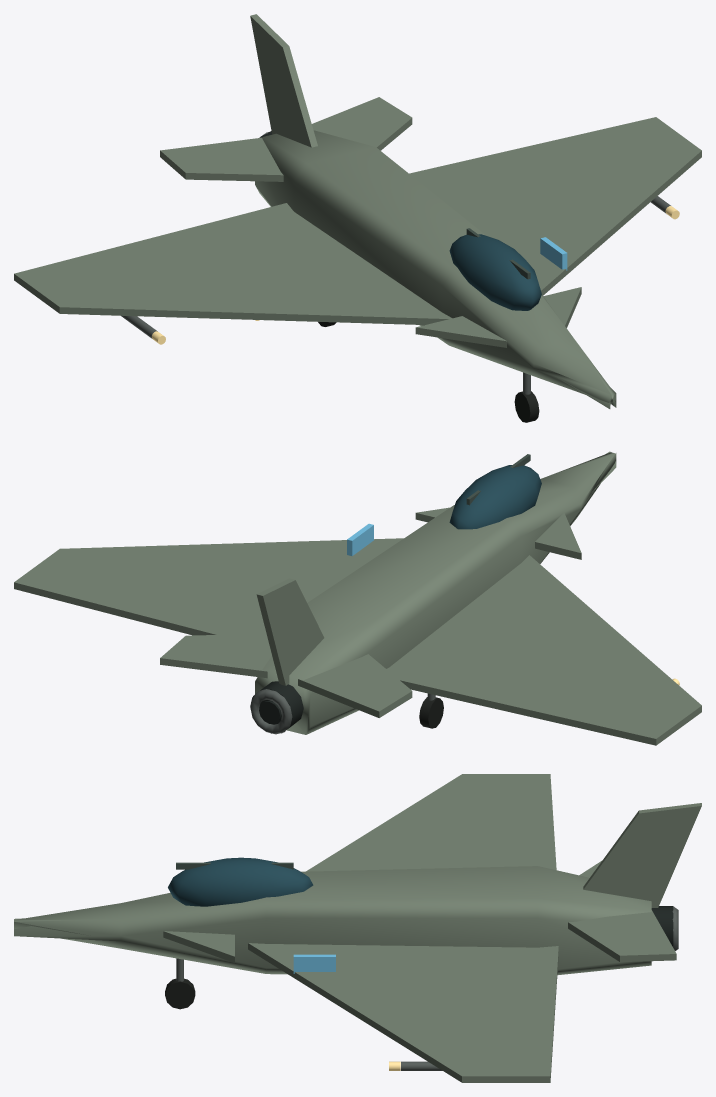
The model's file is attackAircraft.glb.
3 renders of one model, top to bottom at view 1: azimuth 30°, elevation 25°; view 2: azimuth 150°, elevation 25°; view 3: azimuth 270°, elevation 25°, orthographic. The views are drawn at different scales.
Parts seen in each view (by area): view 1: armor, glass, rubber; view 2: armor, glass, dark, steel, rubber, marking; view 3: armor, glass, marking, rubber, steel, dark.
Part boxes in pixels (x1,y1,x2,y2): armor: [14, 14, 701, 408]; glass: [449, 234, 541, 310]; rubber: [318, 322, 539, 422]; armor: [14, 451, 701, 745]; glass: [449, 465, 541, 529]; dark: [259, 681, 303, 733]; steel: [250, 689, 292, 734]; rubber: [419, 697, 443, 728]; marking: [347, 523, 373, 555]; armor: [14, 774, 701, 1082]; glass: [168, 857, 313, 906]; marking: [293, 954, 335, 973]; rubber: [165, 978, 195, 1009]; steel: [401, 906, 678, 1070]; dark: [651, 906, 673, 946].
Bounding box in the file's own units: 8.5 × 2.64 × 8.17.
